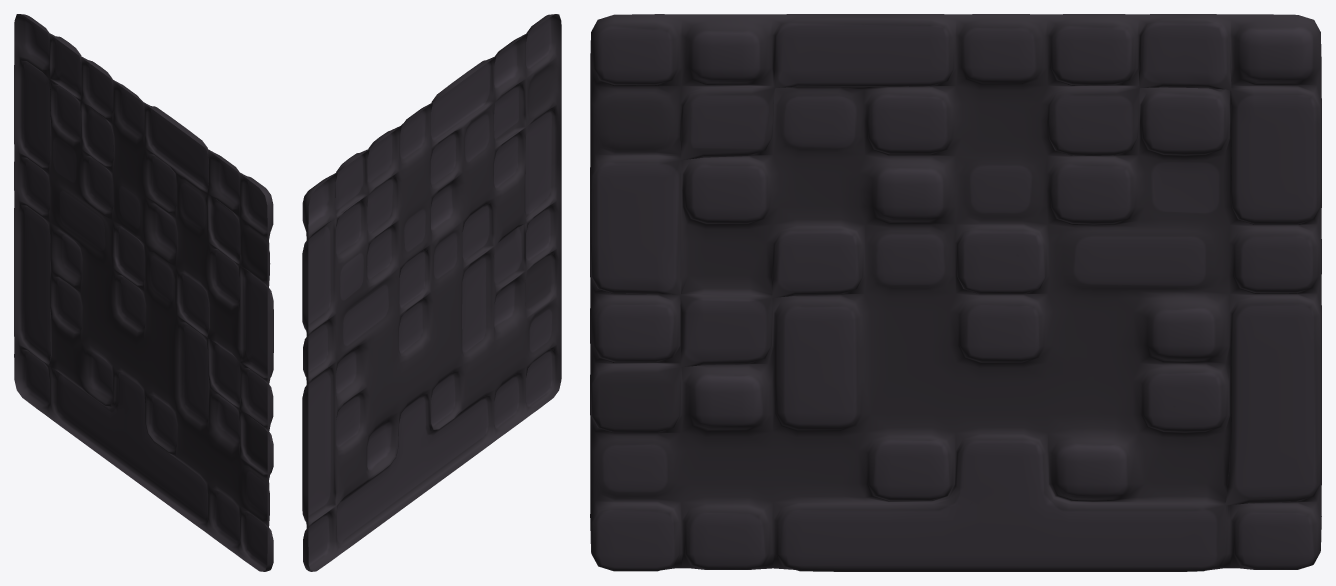
The model's file is Pumpkin_wall_3.fbx.
3 renders of one model, left to right at view 1: azimuth 30°, elevation 25°; view 2: azimuth 150°, elevation 25°; view 3: azimuth 270°, elevation 25°, orthographic. The views are drawn at different scales.
Parts seen in each view (by area): view 1: Plane.004; view 2: Plane.004; view 3: Plane.004.
Boxes of the visible parts, x1=… form: Plane.004: x1=14, y1=14, x2=273, y2=571; Plane.004: x1=302, y1=14, x2=561, y2=571; Plane.004: x1=590, y1=14, x2=1321, y2=571.
Size of the model in its own units: 1192 by 997 by 34.28.
